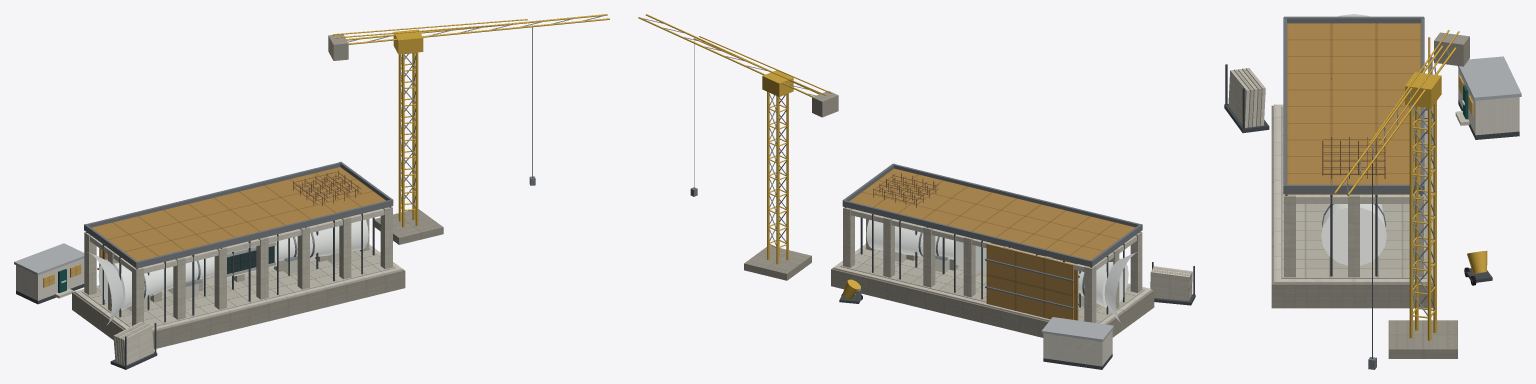
File: fun-5-construction.glb
3 views of the same model, side by side, from view 1: azimuth 30°, elevation 25°; view 2: azimuth 150°, elevation 25°; view 3: azimuth 270°, elevation 25° (orthographic). The views are drawn at different scales.
Size of the model in its own units: 48.25 by 17.55 by 17.18.
Materials: 29 (14 with a texture image).
